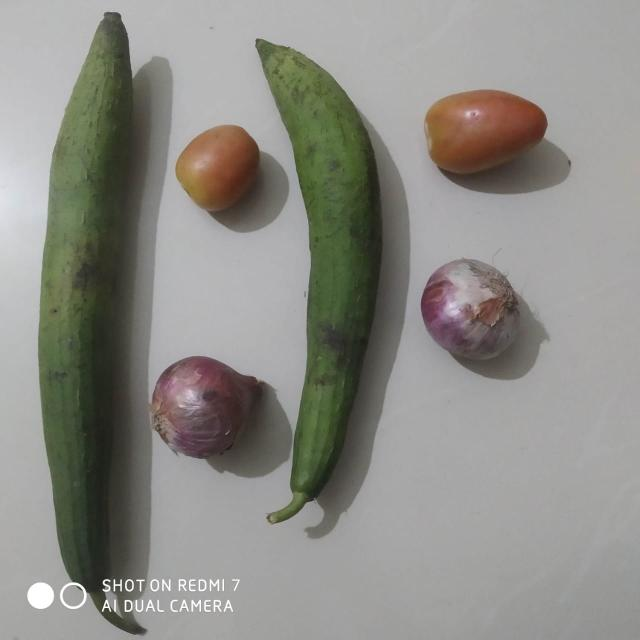Organik: (0, 11, 153, 640), (251, 29, 404, 534), (415, 242, 542, 385), (149, 345, 277, 475), (419, 75, 553, 192), (162, 105, 274, 227)
